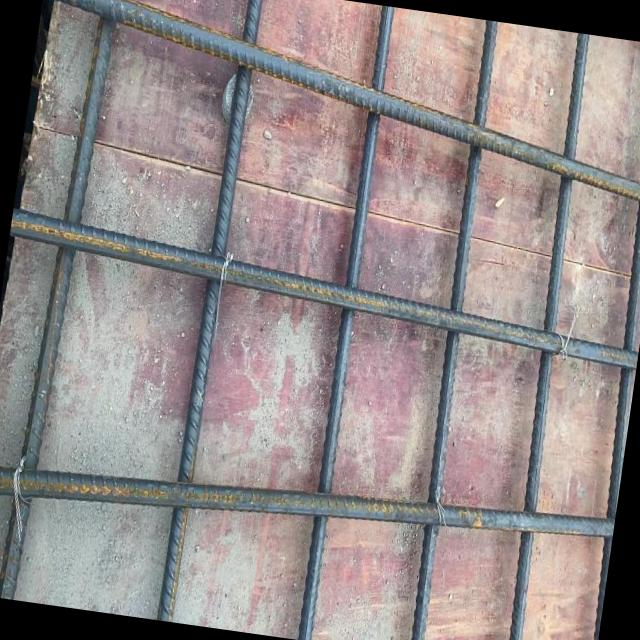ribbed bar: (26, 0, 640, 209), (3, 205, 640, 371), (0, 429, 615, 583), (0, 0, 126, 602), (486, 33, 607, 640), (395, 20, 512, 640), (292, 5, 402, 640), (154, 0, 263, 622), (564, 43, 640, 640)
